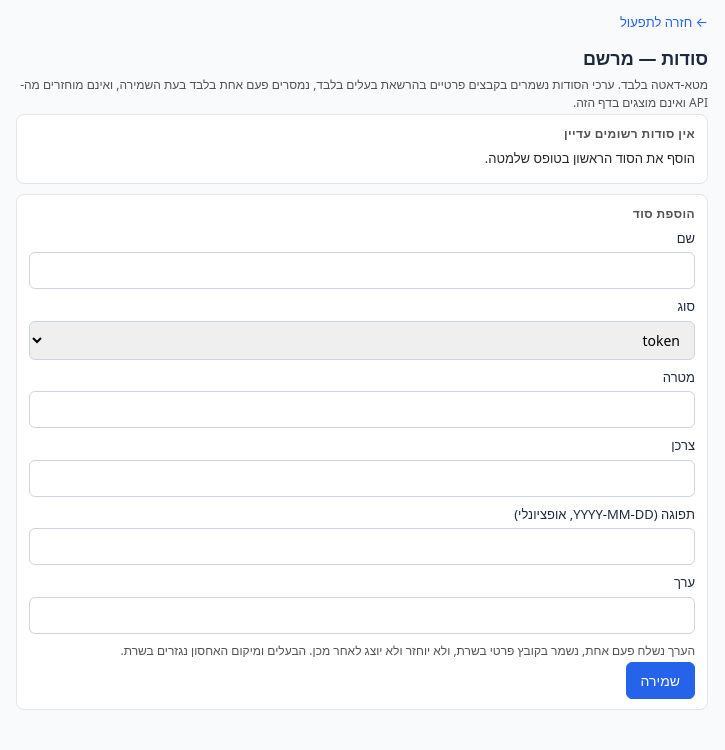
Test: H2 — the owner flow works from the page › surfaces a server rejection without inventing success
In the field with test id "ops-secret-name": (362,270) [29,252,695,289], type "bad name"
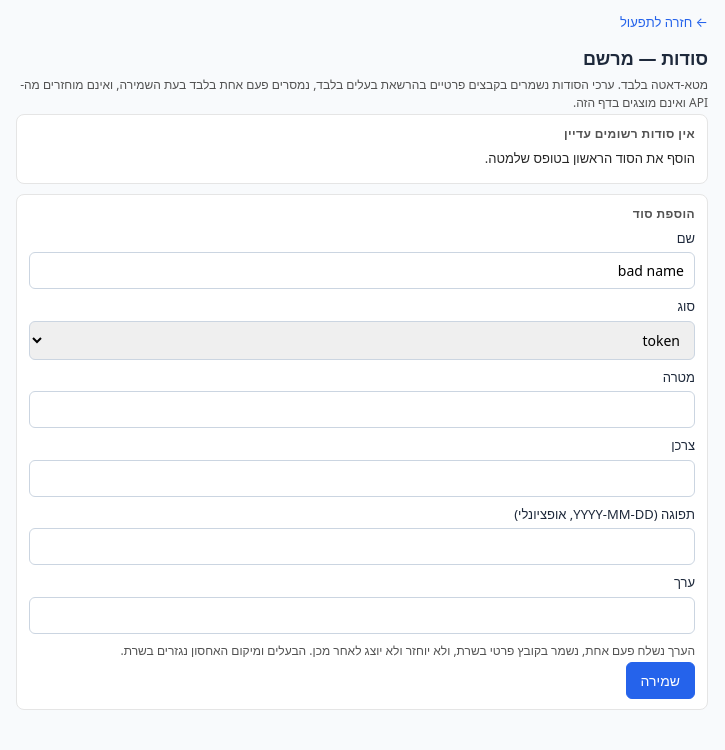
In the field with test id "ops-secret-purpose": (362,410) [29,391,695,428], type "x"
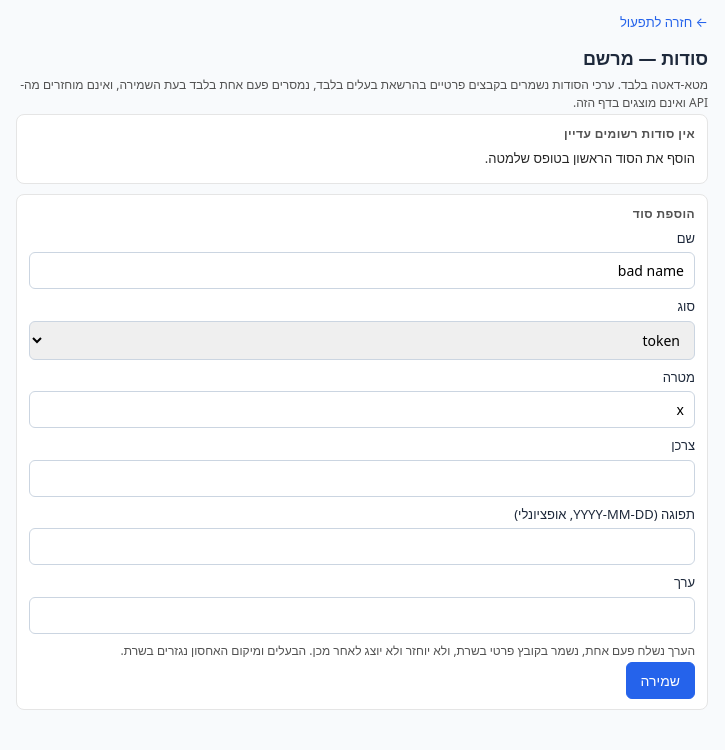
In the field with test id "ops-secret-consumer": (362,478) [29,460,695,496], type "y"
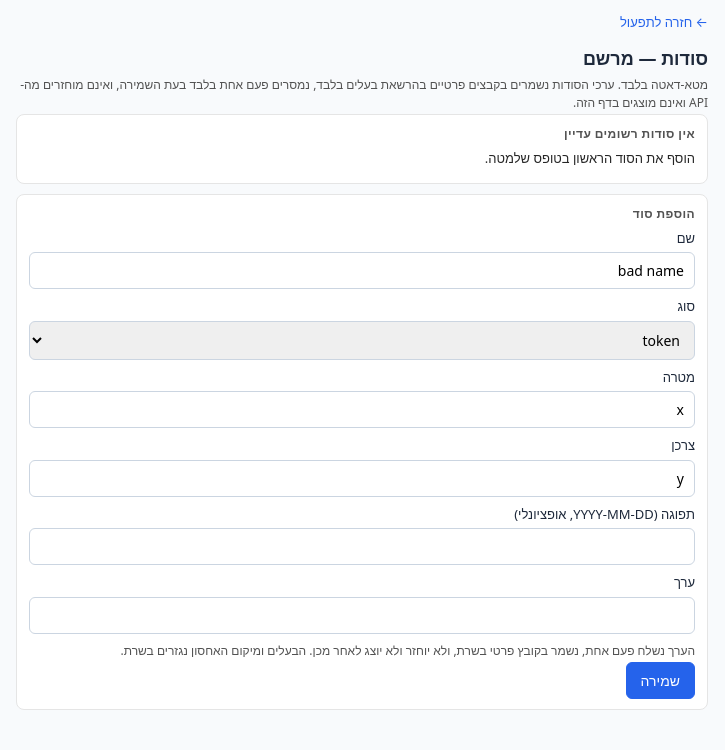
In the password field with test id "ops-secret-value": (362,615) [29,596,695,634], type "Qx7z-synthetic-value-must-never-render-0001"
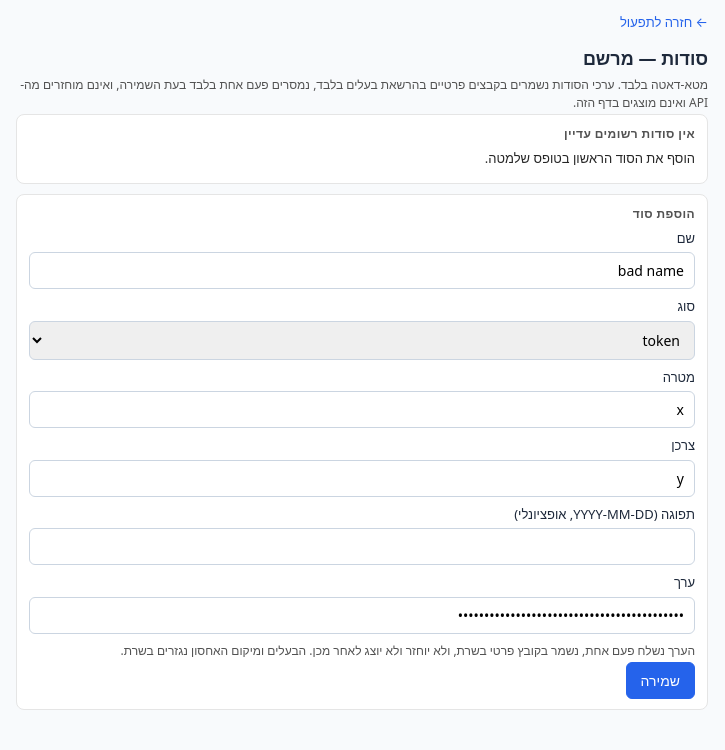
Click the button with test id "ops-secret-create-submit": (660,680) [626,662,695,698]
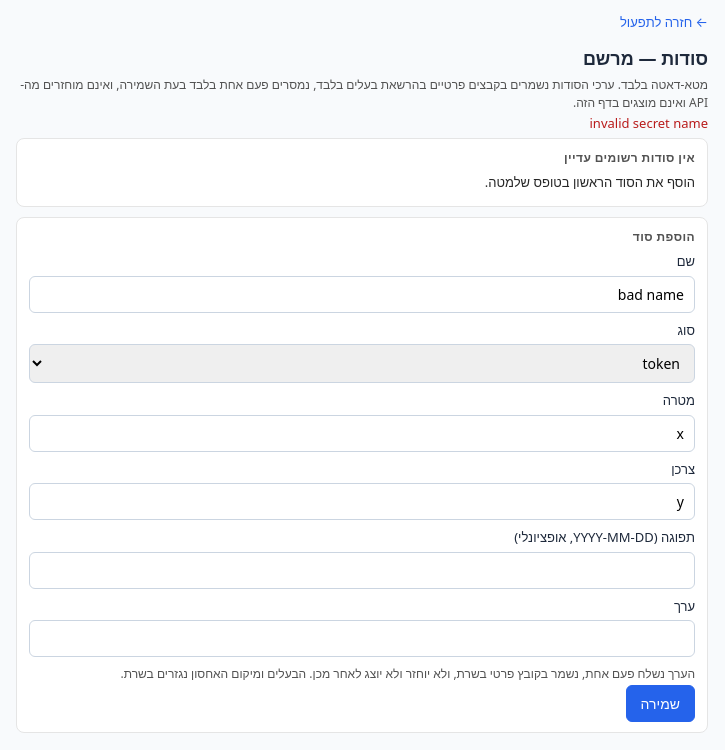
Expected: the message "invalid secret name" is shown, [590,114,708,132]
Expected: the password field with test id "ops-secret-value" is empty, [29,620,695,657]
